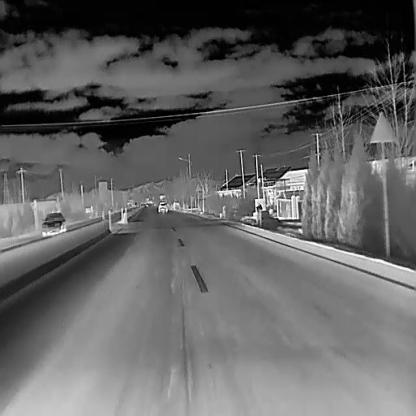car: (40, 211, 66, 237), (158, 200, 168, 213)
